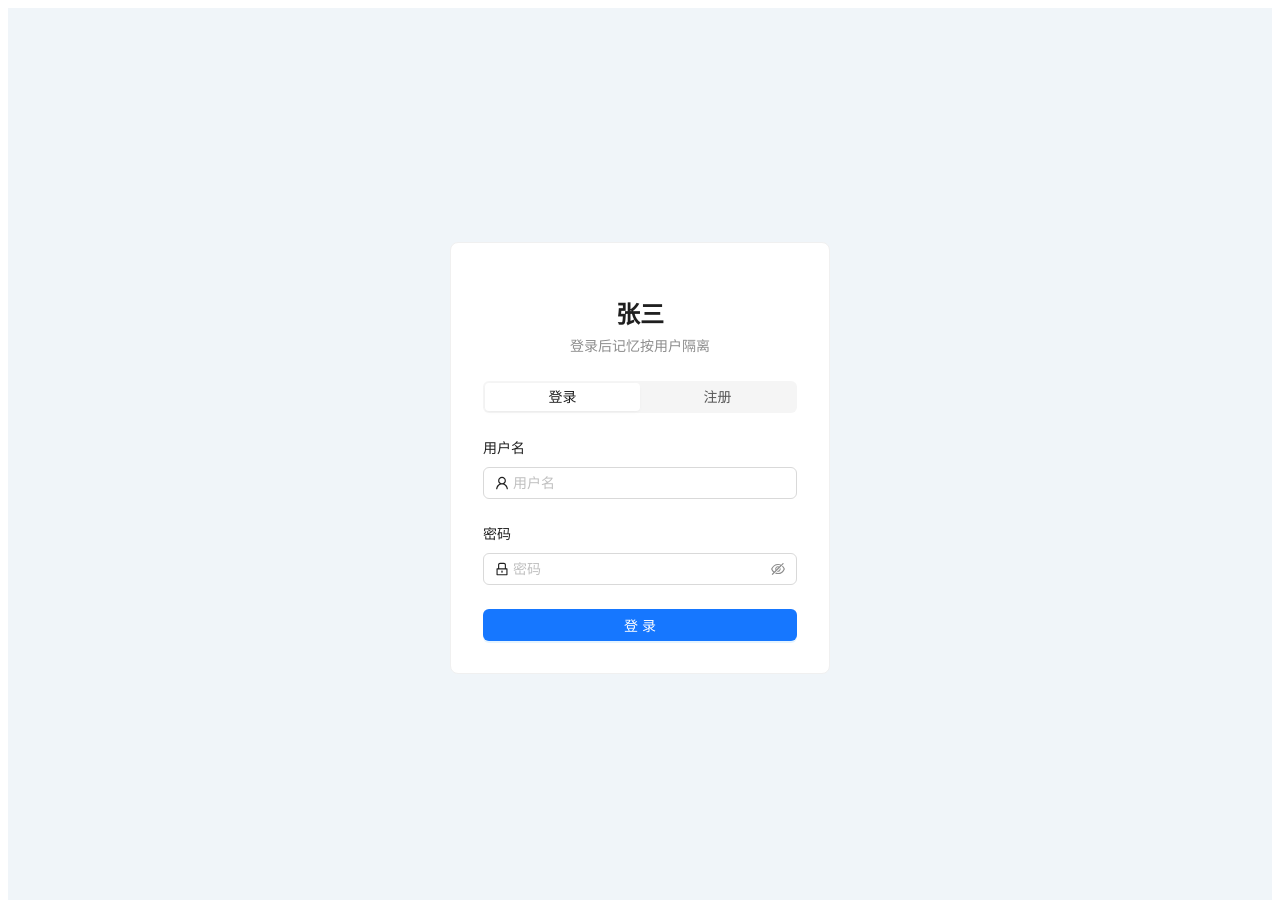
LoginPage 登录 / 注册 › 登录失败（HTTP 400，后端 msg 字段）：显示错误信息，不跳转
In the field with placeholder "用户名": (649, 483) [513, 472, 785, 494], type "alice"
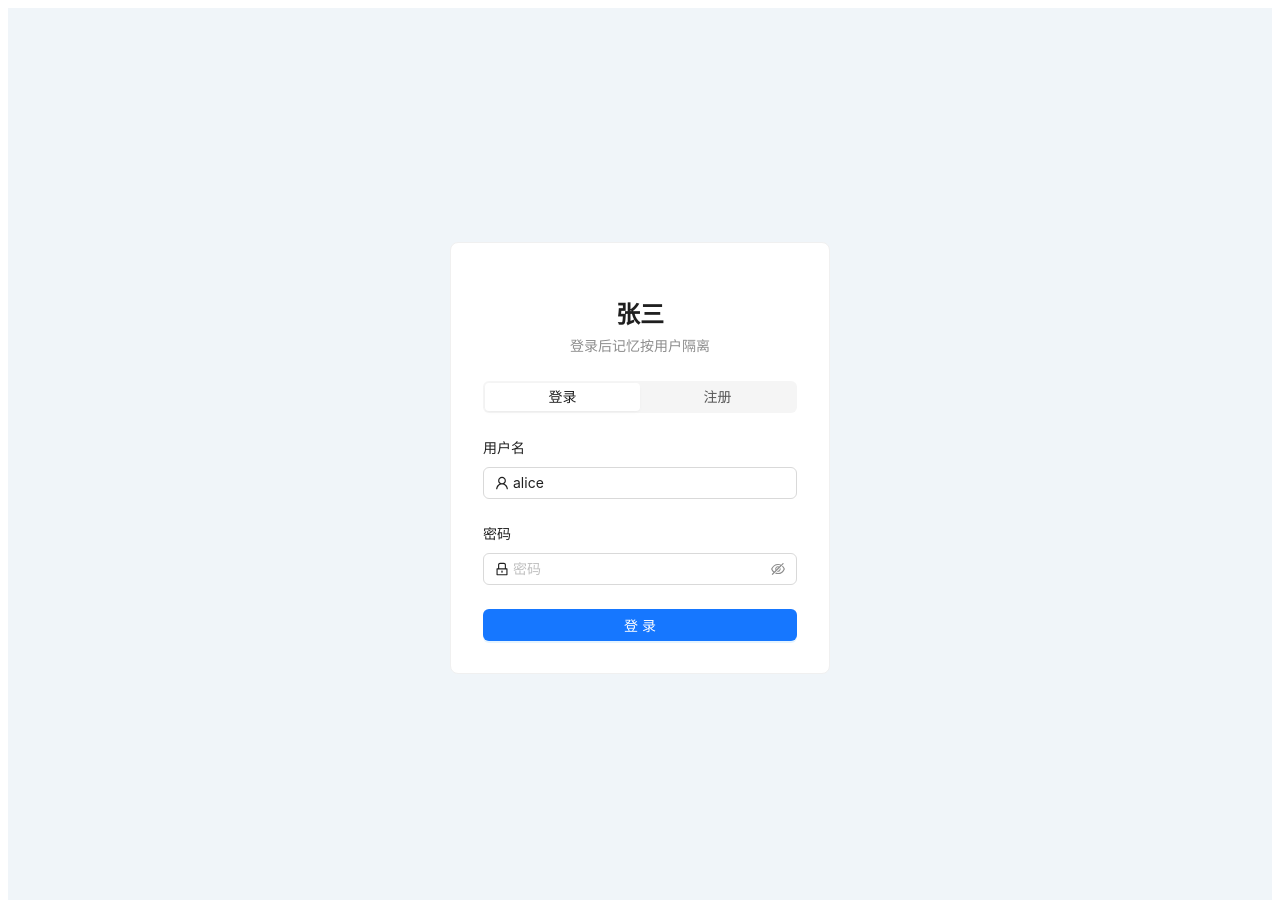
In the password field with placeholder "密码": (640, 569) [513, 558, 767, 580], type "wrong-password"
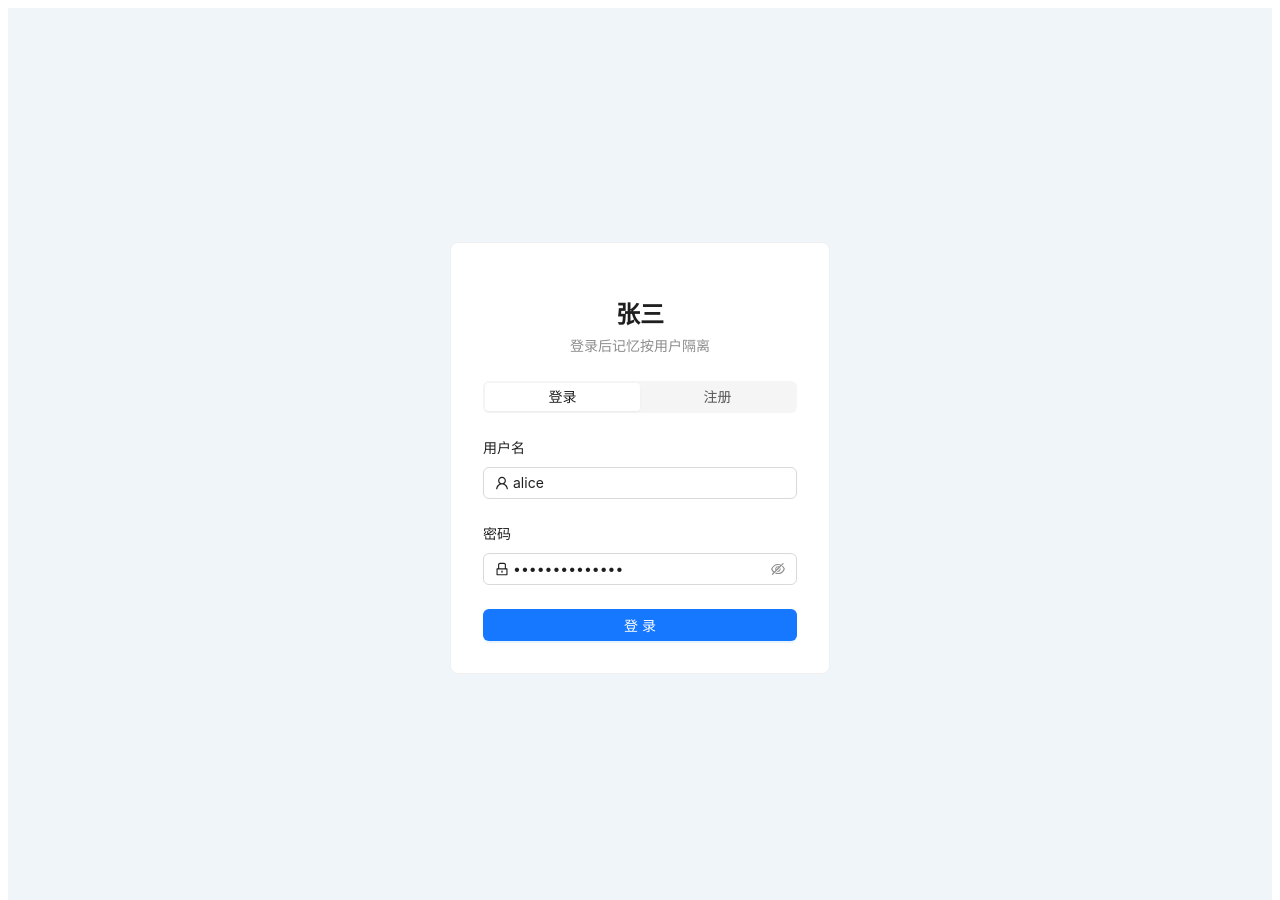
Click the button "登 录": (640, 625) [483, 609, 797, 641]
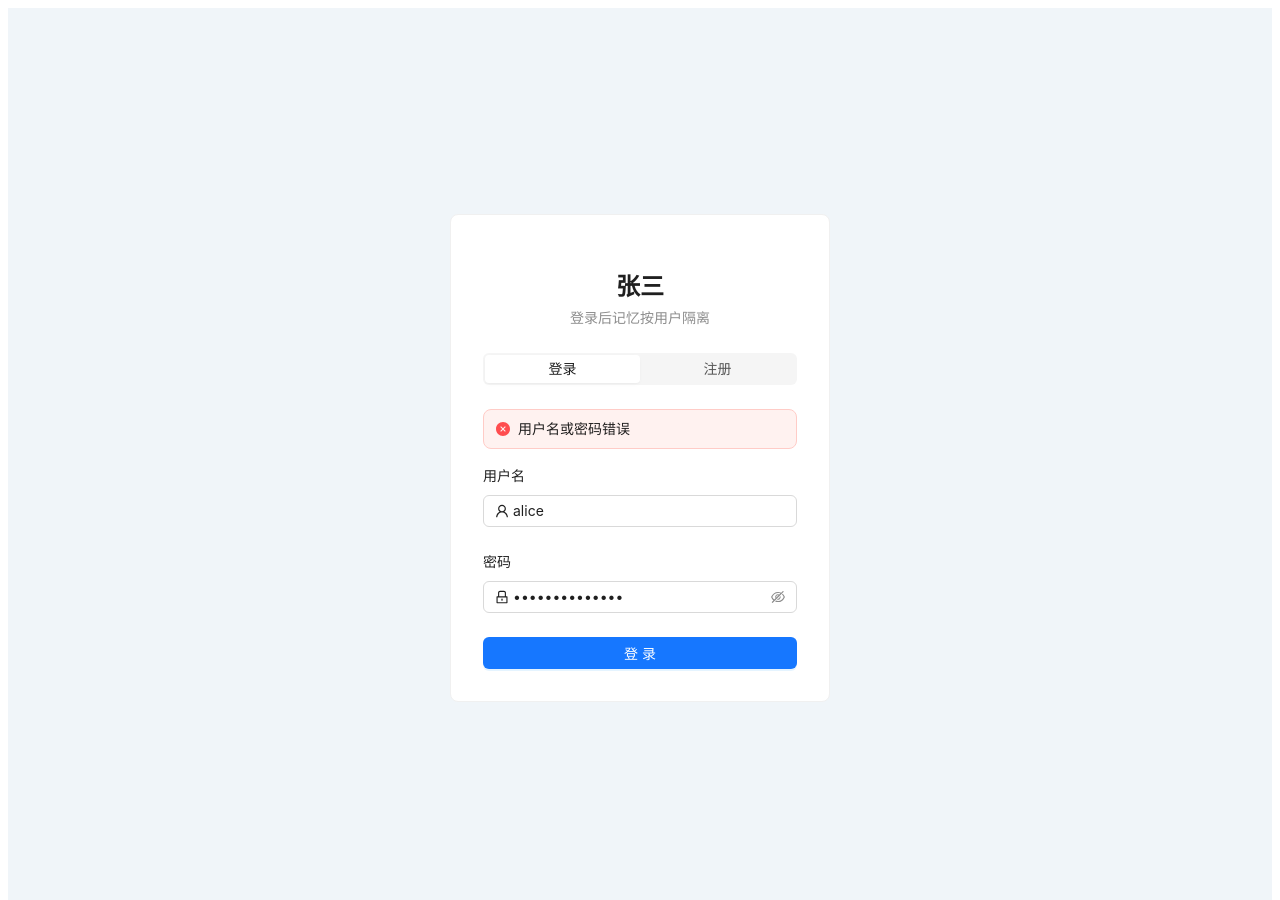
Expected: the text "用户名或密码错误" is shown, [518, 420, 630, 437]
